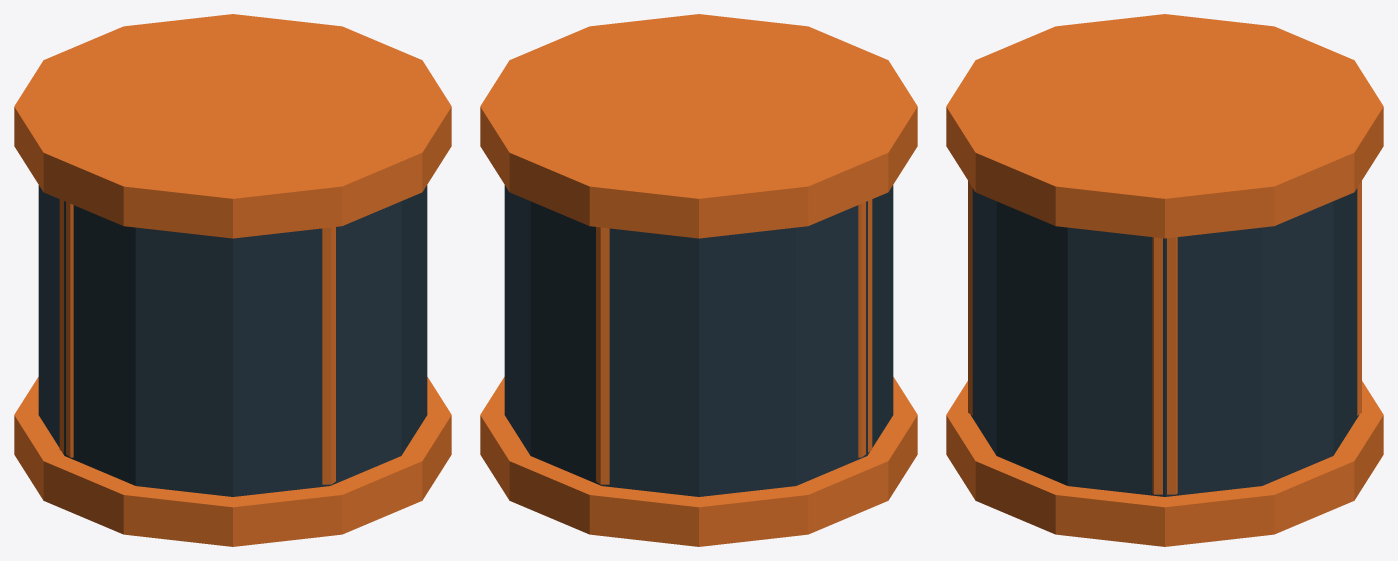
The model's file is reactor_machine.glb.
3 renders of one model, left to right at view 1: azimuth 30°, elevation 25°; view 2: azimuth 150°, elevation 25°; view 3: azimuth 270°, elevation 25°, orthographic.
Parts seen in each view (by area): view 1: reactor_machine; view 2: reactor_machine; view 3: reactor_machine.
Boxes of the visible parts, x1,y1,x2,y2 form: reactor_machine: (14,14,451,546); reactor_machine: (480,14,917,546); reactor_machine: (946,14,1383,546).
Bounding box in the file's own units: 1.8 × 1.58 × 1.8.
